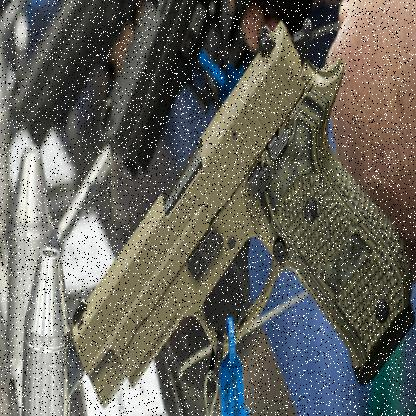pistol: (69, 18, 415, 407)
